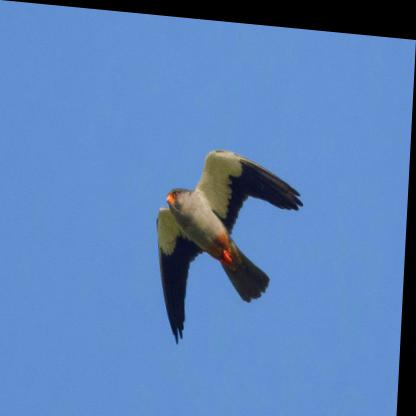Burung: (154, 139, 317, 349)
